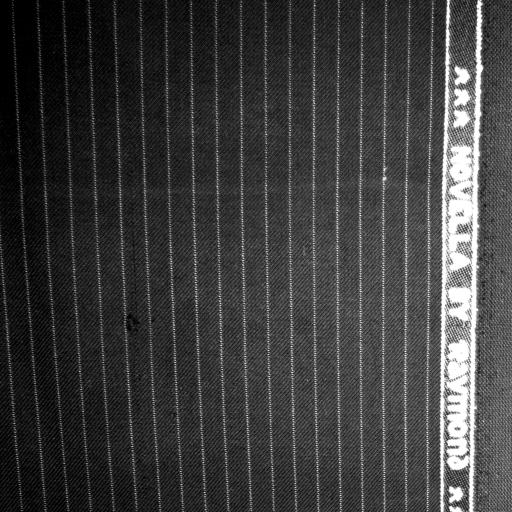fabric_hole: (116, 306, 148, 344)
